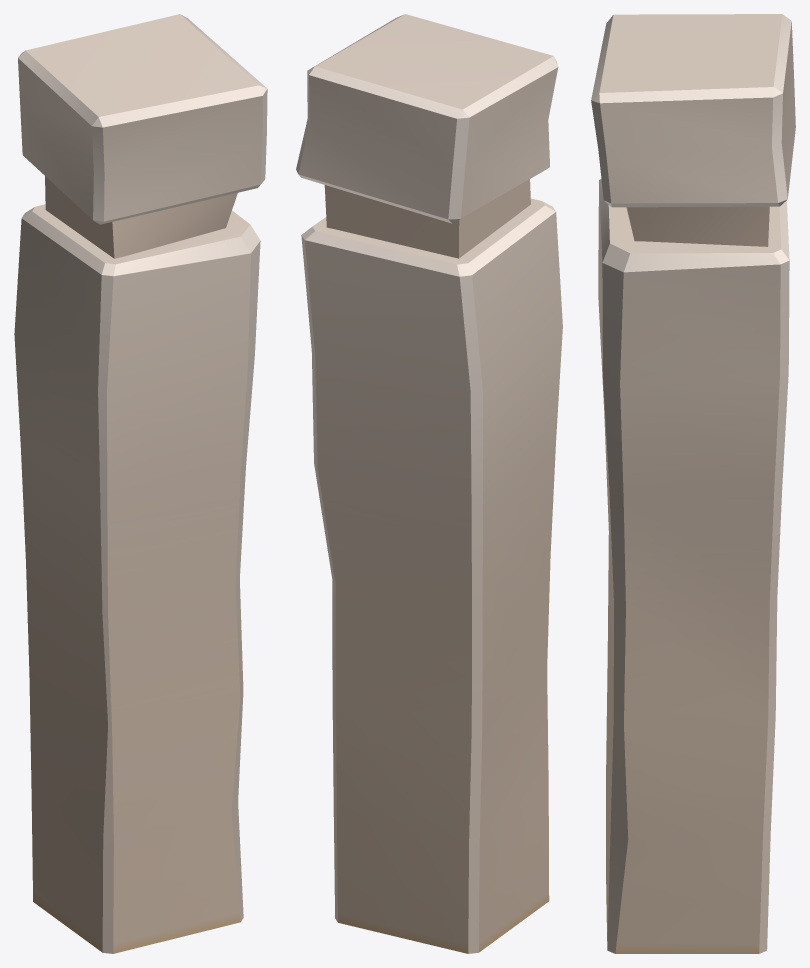
Rendered from StubicMali.fbx.
The picture shows the model from 3 angles, left to right: view 1: azimuth 30°, elevation 25°; view 2: azimuth 150°, elevation 25°; view 3: azimuth 270°, elevation 25°; orthographic projection. The views are drawn at different scales.
Visible parts, largest first — view 1: StubicMali; view 2: StubicMali; view 3: StubicMali.
Boxes of the visible parts, left/top/right/bottom form: StubicMali: left=14, top=14, right=267, bottom=953; StubicMali: left=296, top=14, right=562, bottom=953; StubicMali: left=591, top=14, right=795, bottom=953.
Bounding box in the file's own units: 52.27 × 231 × 49.12.
